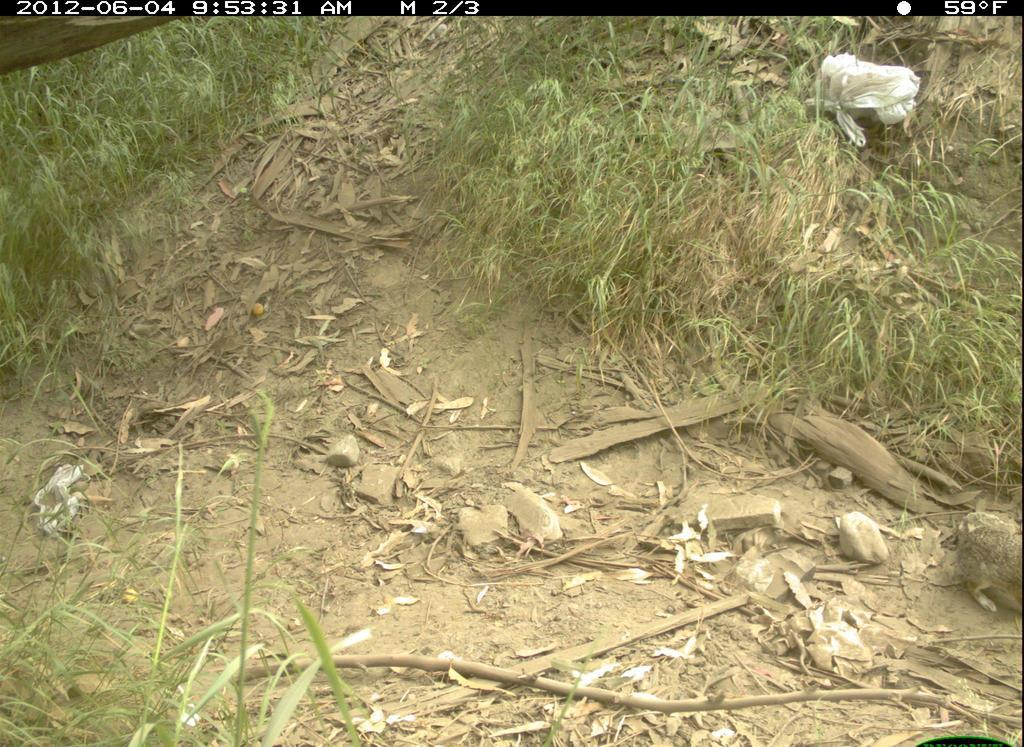rabbit: (952, 509, 1023, 620)
